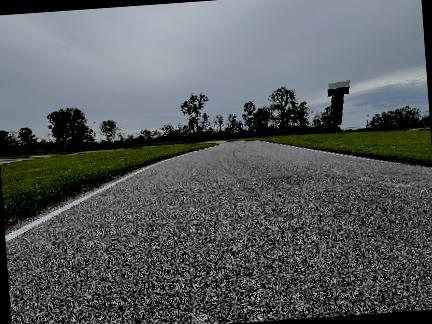Grass: (0, 144, 216, 226), (245, 130, 431, 166)
Lane: (6, 141, 431, 323), (0, 151, 96, 164)
